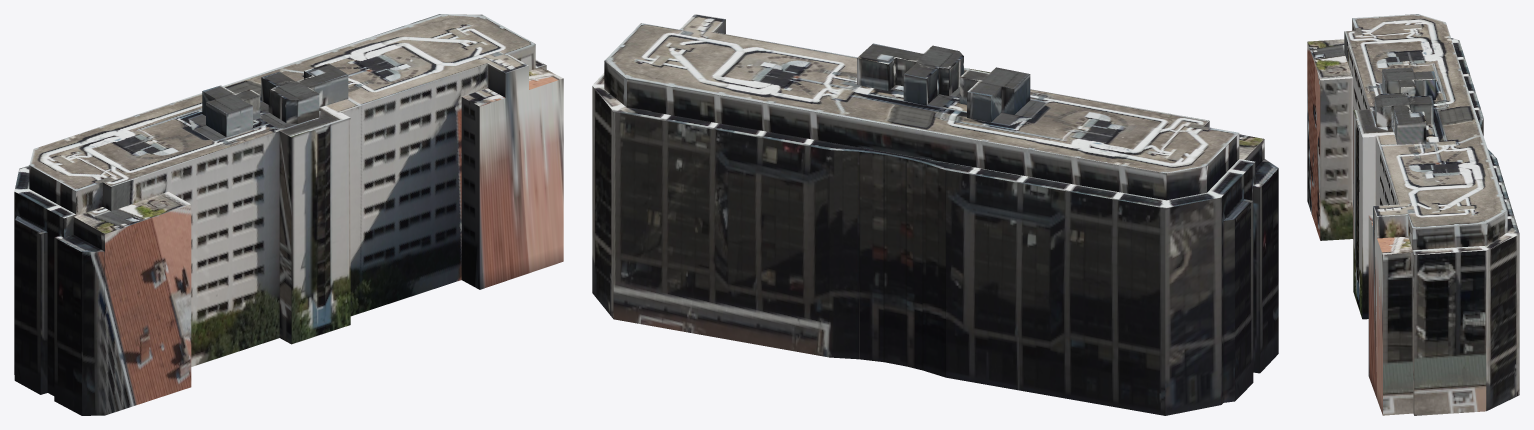
3 renders of one model, left to right at view 1: azimuth 30°, elevation 25°; view 2: azimuth 150°, elevation 25°; view 3: azimuth 270°, elevation 25°, orthographic. The views are drawn at different scales.
Visible parts, largest first — view 1: Z_UP; view 2: Z_UP; view 3: Z_UP.
Boxes of the visible parts, <box> form: Z_UP: <box>14,14,563,415</box>; Z_UP: <box>592,14,1278,415</box>; Z_UP: <box>1307,14,1519,415</box>.
Bounding box in the file's own units: 69.24 × 28.64 × 27.17.
Materials: 2 (1 with a texture image).
